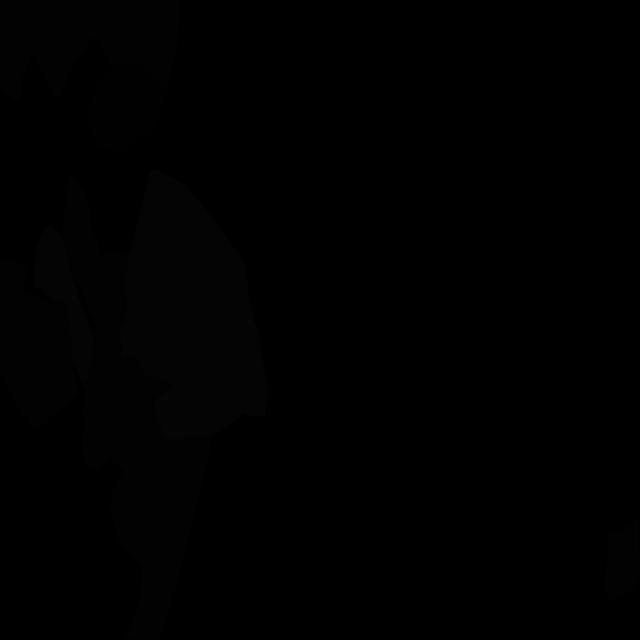cardboard: (124, 437, 212, 640), (95, 354, 180, 559), (0, 261, 79, 433), (81, 250, 130, 472), (61, 176, 105, 327), (603, 512, 640, 601), (144, 372, 172, 400)
rigid_plastic: (88, 62, 166, 153)
soft_plastic: (120, 170, 268, 439), (34, 225, 94, 388)
